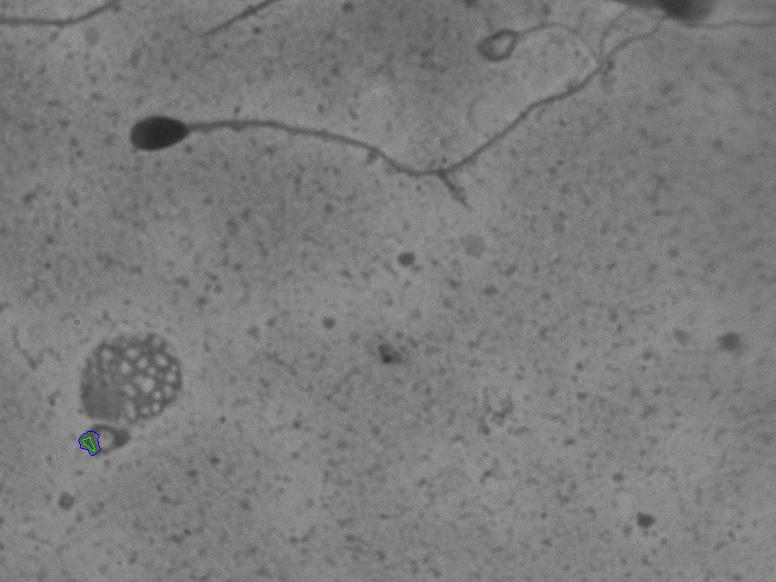Normal: (73, 23, 648, 243)
